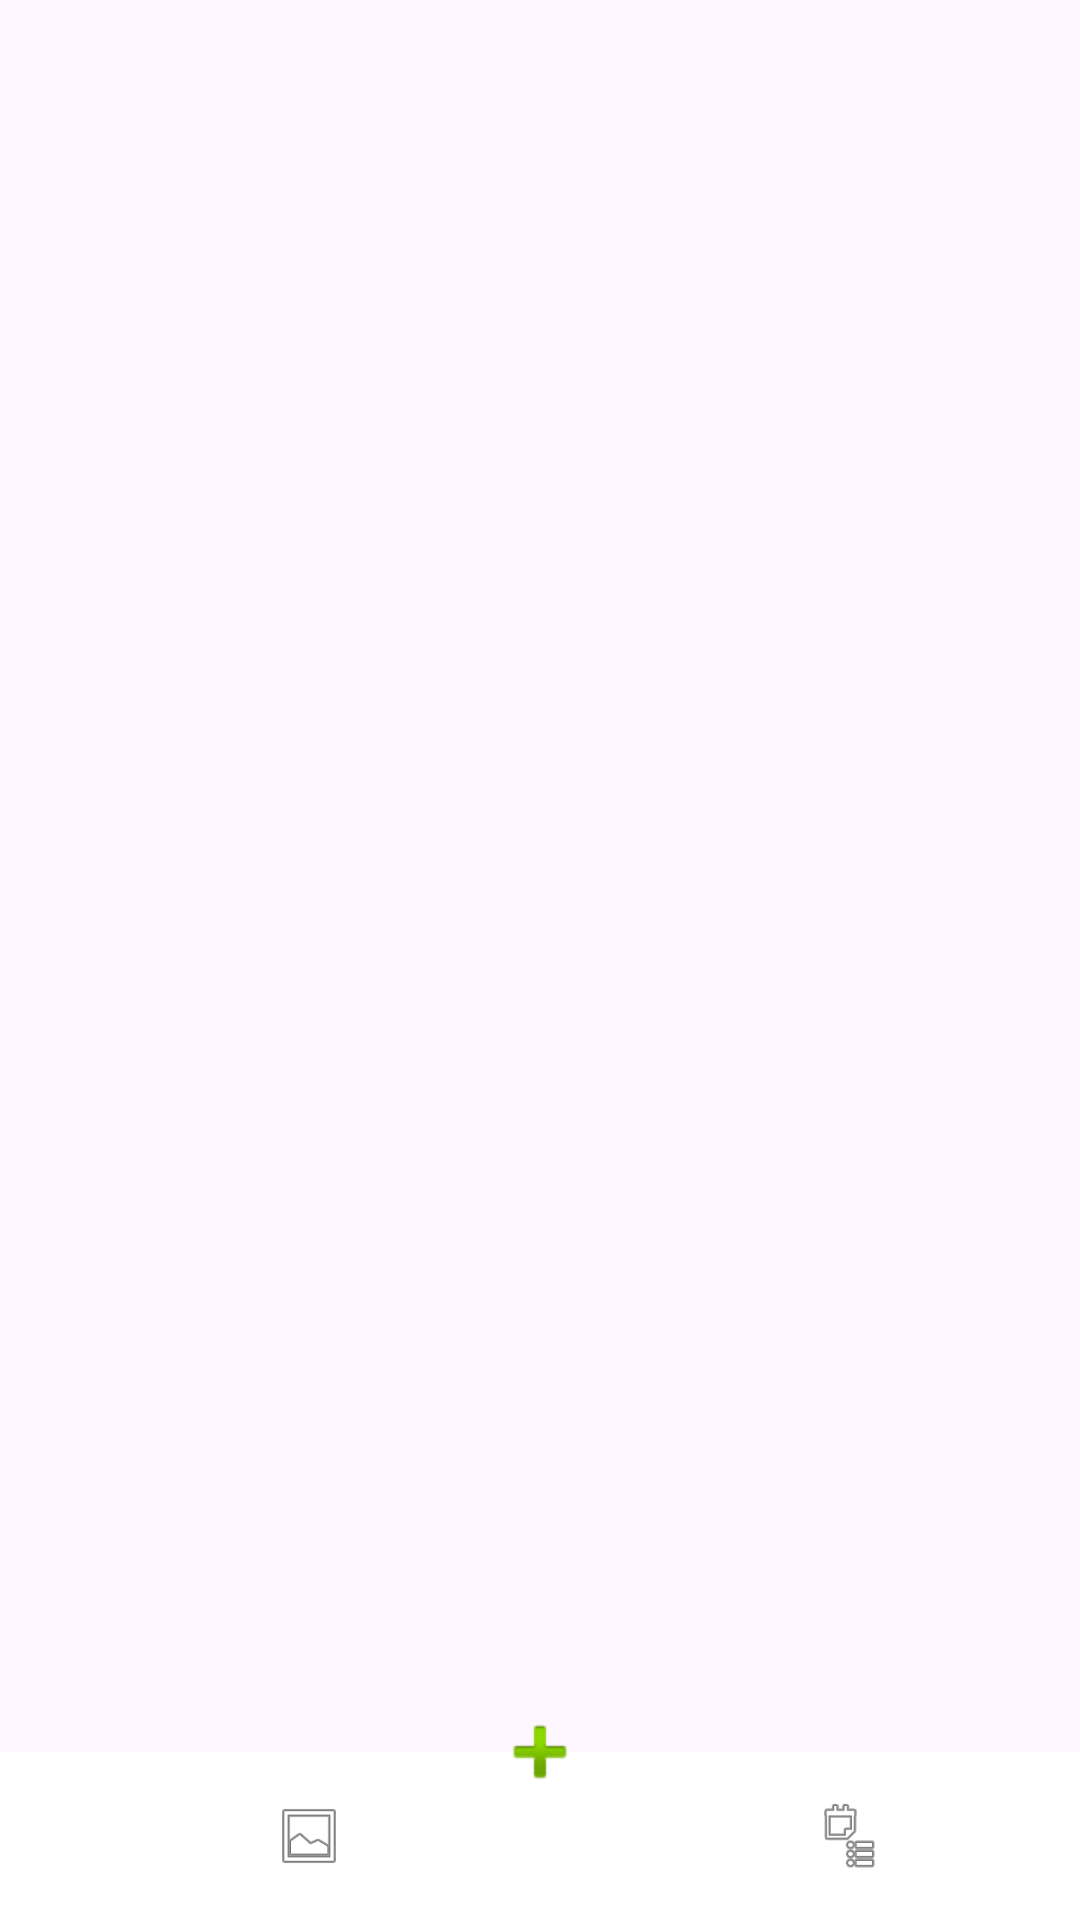

Icon bounding boxes for this 1080px×1920px phone screenshot, format (x1, y1, x2, y2):
add: (513, 1725, 567, 1779)
agenda: (824, 1804, 875, 1868)
gallery: (282, 1809, 336, 1863)
